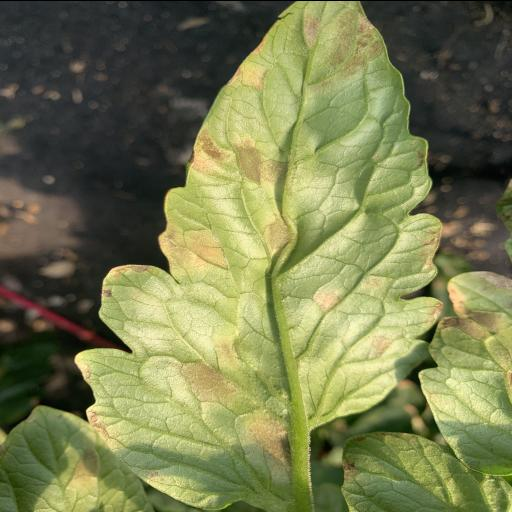disease_tomato: (70, 0, 446, 512)
